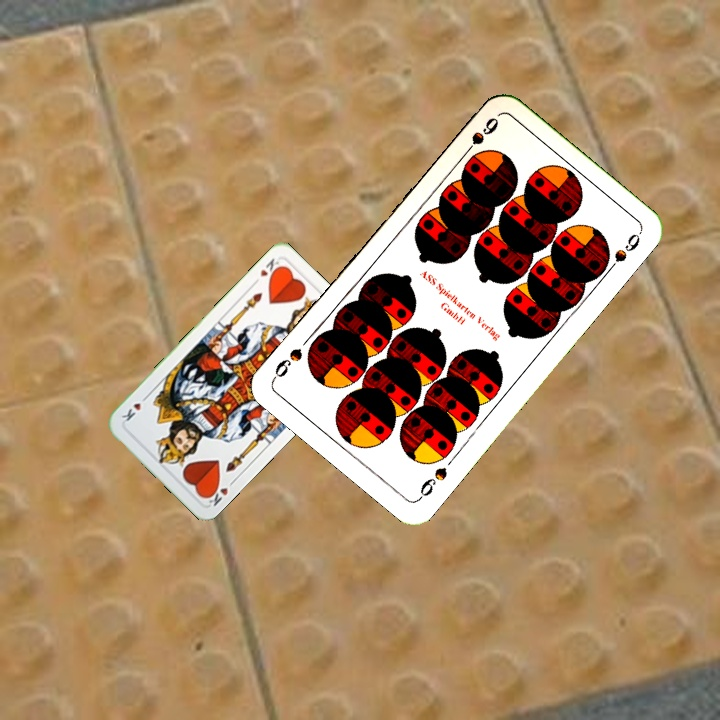HK: (249, 254, 284, 288), (201, 479, 231, 509)
S9: (457, 113, 501, 162), (414, 463, 450, 503)
